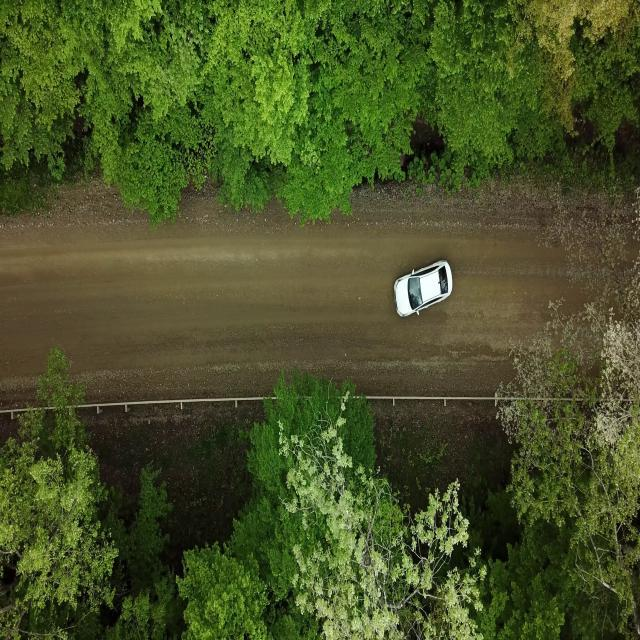vehicle: (394, 259, 454, 317)
